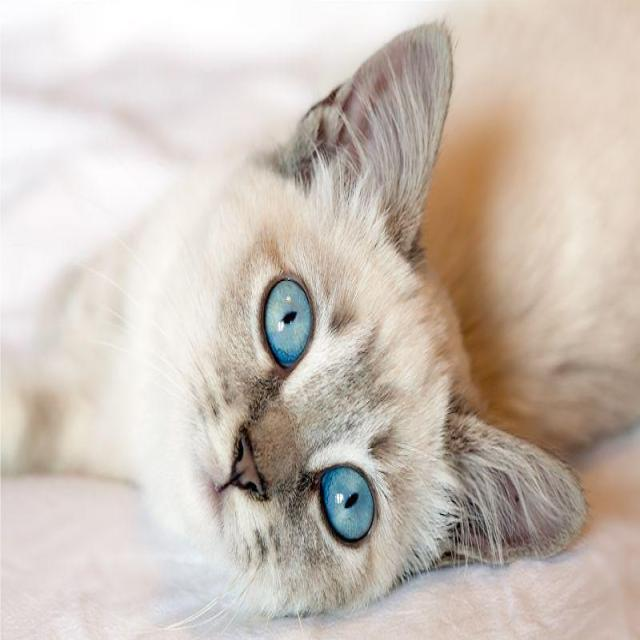Cat: (146, 18, 595, 619)
